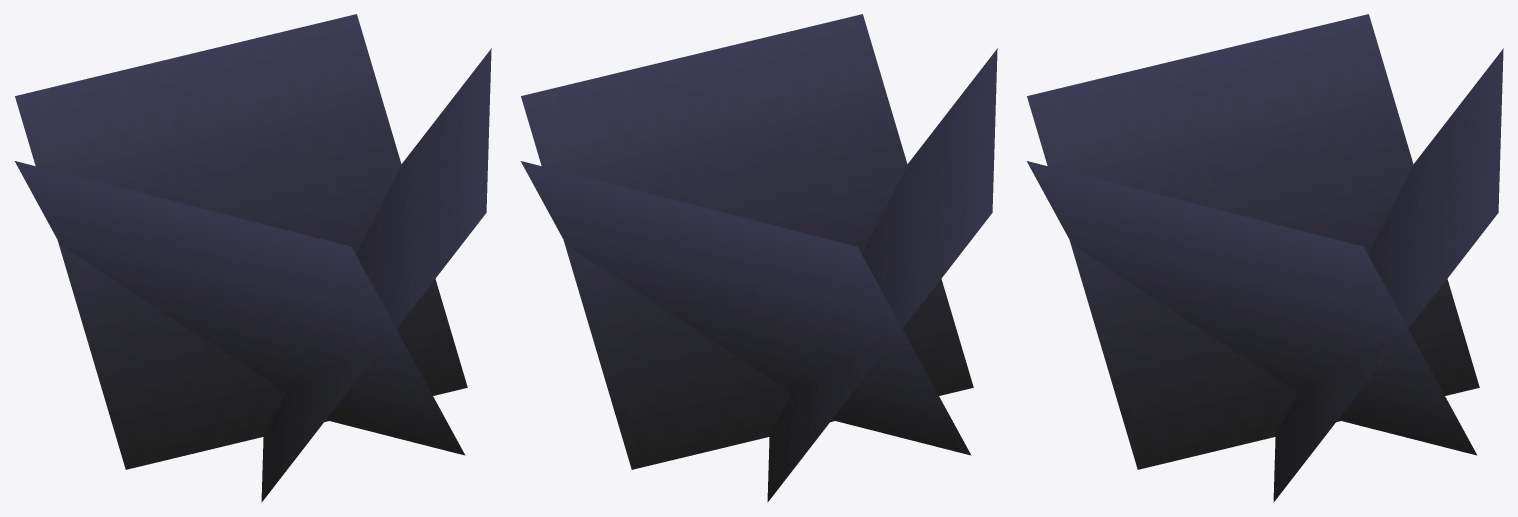
The model's file is lowqualitygrass.glb.
The picture shows the model from 3 angles, left to right: view 1: azimuth 30°, elevation 25°; view 2: azimuth 150°, elevation 25°; view 3: azimuth 270°, elevation 25°; orthographic projection.
Parts seen in each view (by area): view 1: Plane.003; view 2: Plane.003; view 3: Plane.003.
Boxes of the visible parts, <box> form: Plane.003: <box>14,14,491,502</box>; Plane.003: <box>520,14,997,502</box>; Plane.003: <box>1026,14,1503,502</box>.
Bounding box in the file's own units: 2.79 × 1.64 × 2.43.
Materials: 1 (1 with a texture image).
